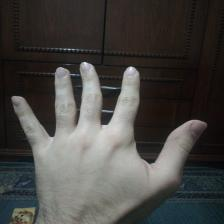five: (7, 58, 210, 220)
